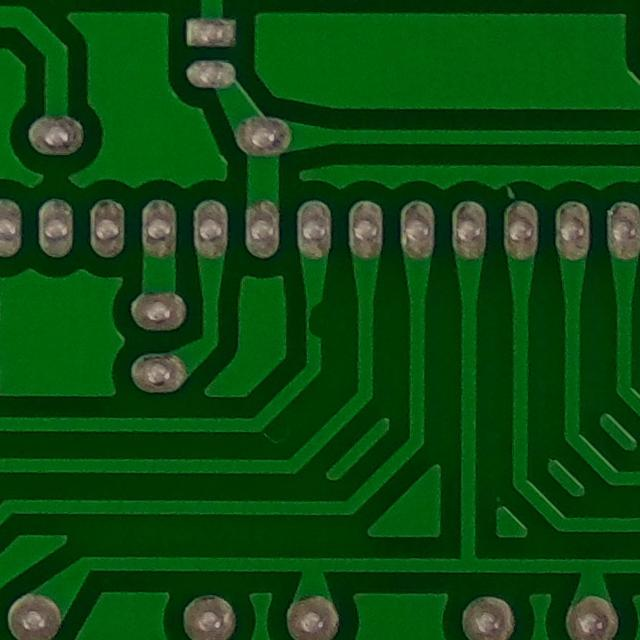mouse_bite: (298, 290, 342, 350)
